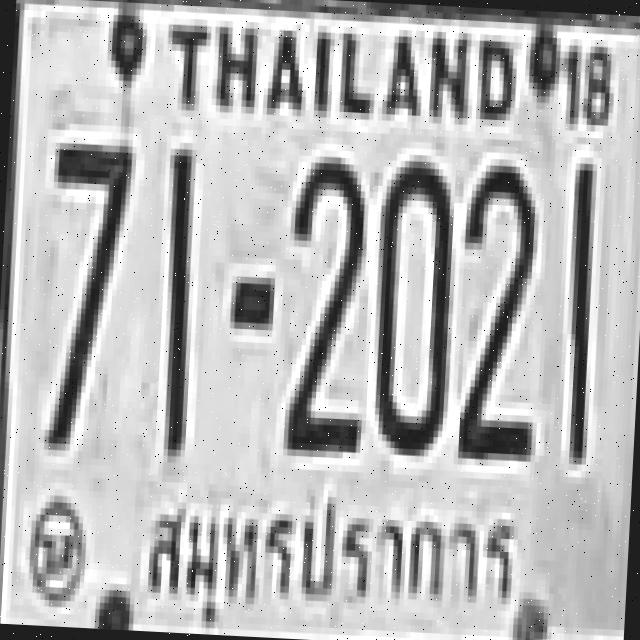0: (368, 154, 456, 450)
1: (558, 160, 600, 461), (156, 149, 197, 450)
2: (279, 152, 372, 456), (452, 160, 540, 452), (282, 152, 370, 430)
7: (38, 136, 130, 447)
SamutPrakan: (135, 480, 531, 640)
